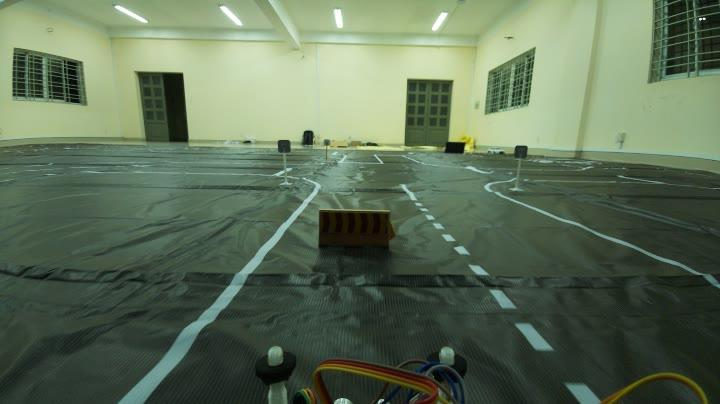roadblock: (311, 201, 401, 255)
